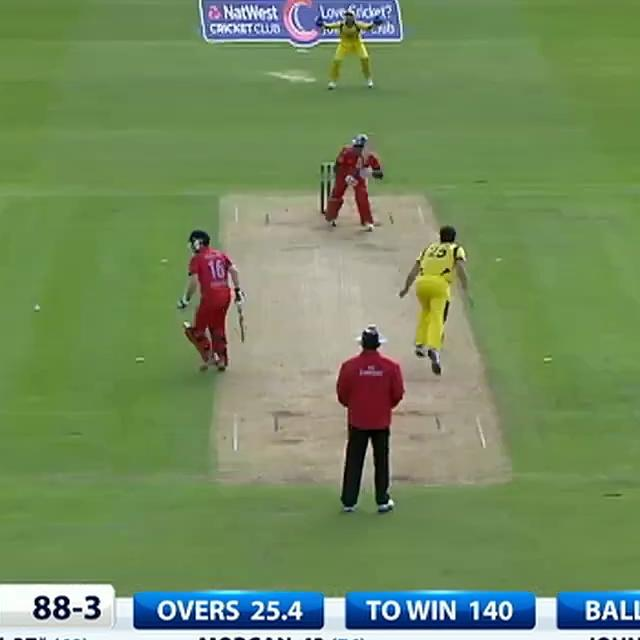umpire: (324, 317, 414, 518)
